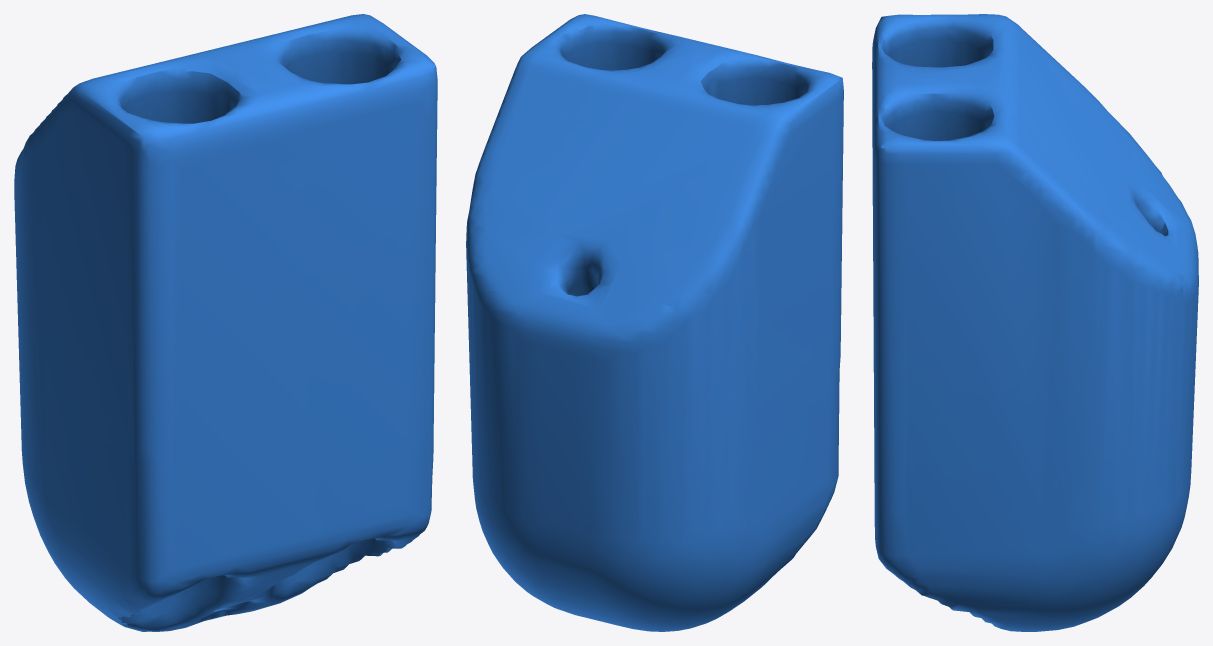
Rendered from left_finger3_upper.glb.
3 views of the same model, side by side, from view 1: azimuth 30°, elevation 25°; view 2: azimuth 150°, elevation 25°; view 3: azimuth 270°, elevation 25° (orthographic). The views are drawn at different scales.
Visible parts, largest first — view 1: left_finger3_upper; view 2: left_finger3_upper; view 3: left_finger3_upper.
Boxes of the visible parts, x1,y1,x2,y2 form: left_finger3_upper: [14, 14, 437, 631]; left_finger3_upper: [466, 14, 843, 631]; left_finger3_upper: [872, 14, 1198, 631].
Bounding box in the file's own units: 0.0107 × 0.0196 × 0.0109.
Materials: 1 (1 with a texture image).
